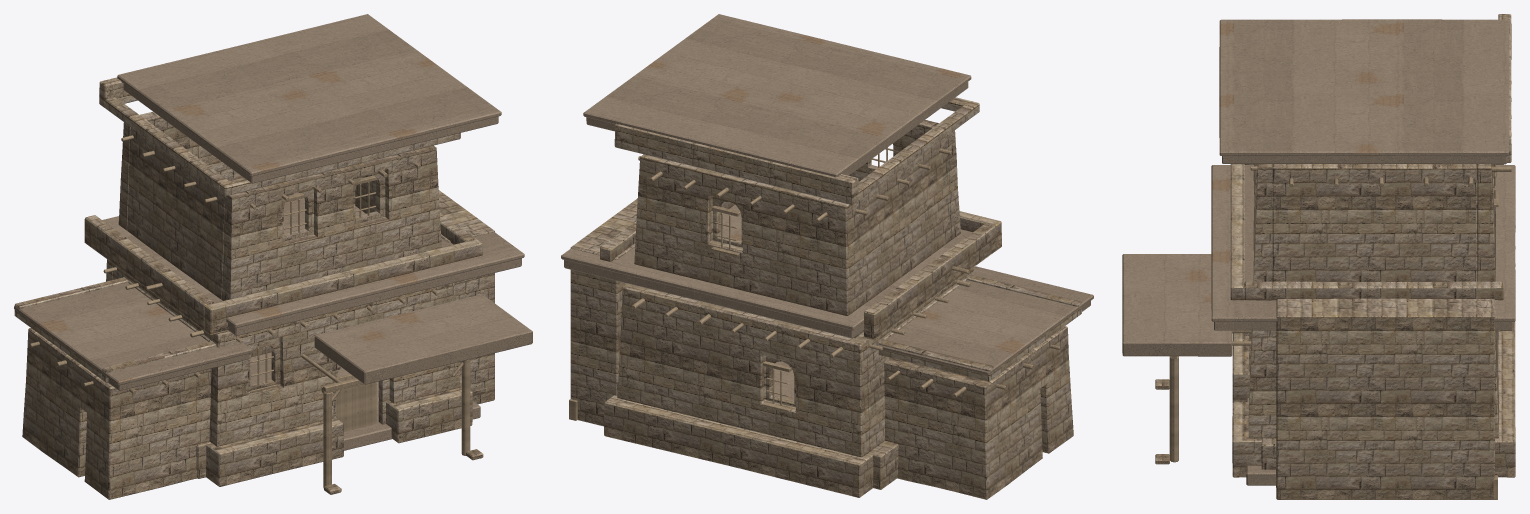
The picture shows the model from 3 angles, left to right: view 1: azimuth 30°, elevation 25°; view 2: azimuth 150°, elevation 25°; view 3: azimuth 270°, elevation 25°; orthographic projection. The views are drawn at different scales.
Visible parts, largest first — view 1: house; view 2: house; view 3: house.
Boxes of the visible parts, box(x1,y1,x2,y2) form: house: box(14, 14, 532, 499); house: box(561, 14, 1093, 499); house: box(1122, 14, 1515, 499).
Size of the model in its own units: 10.52 by 7.93 by 8.34.
3 materials, 3 textured.
